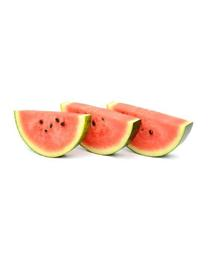watermelon: (12, 98, 197, 159)
